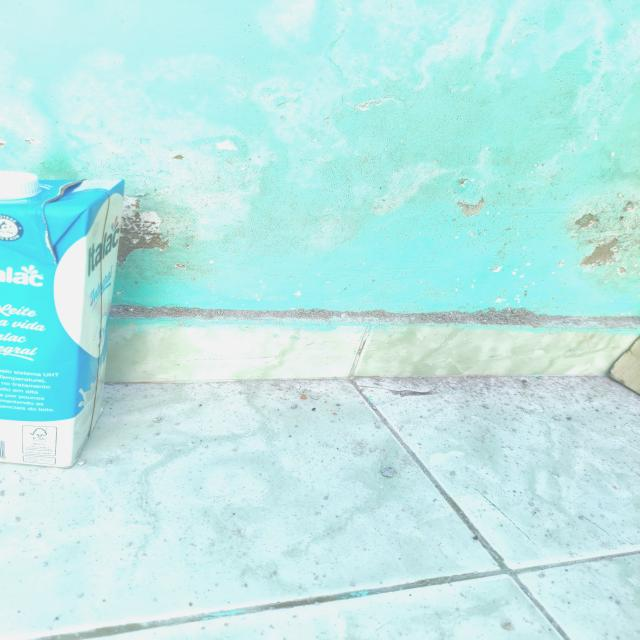Caixa de Leite: (1, 178, 126, 471)
